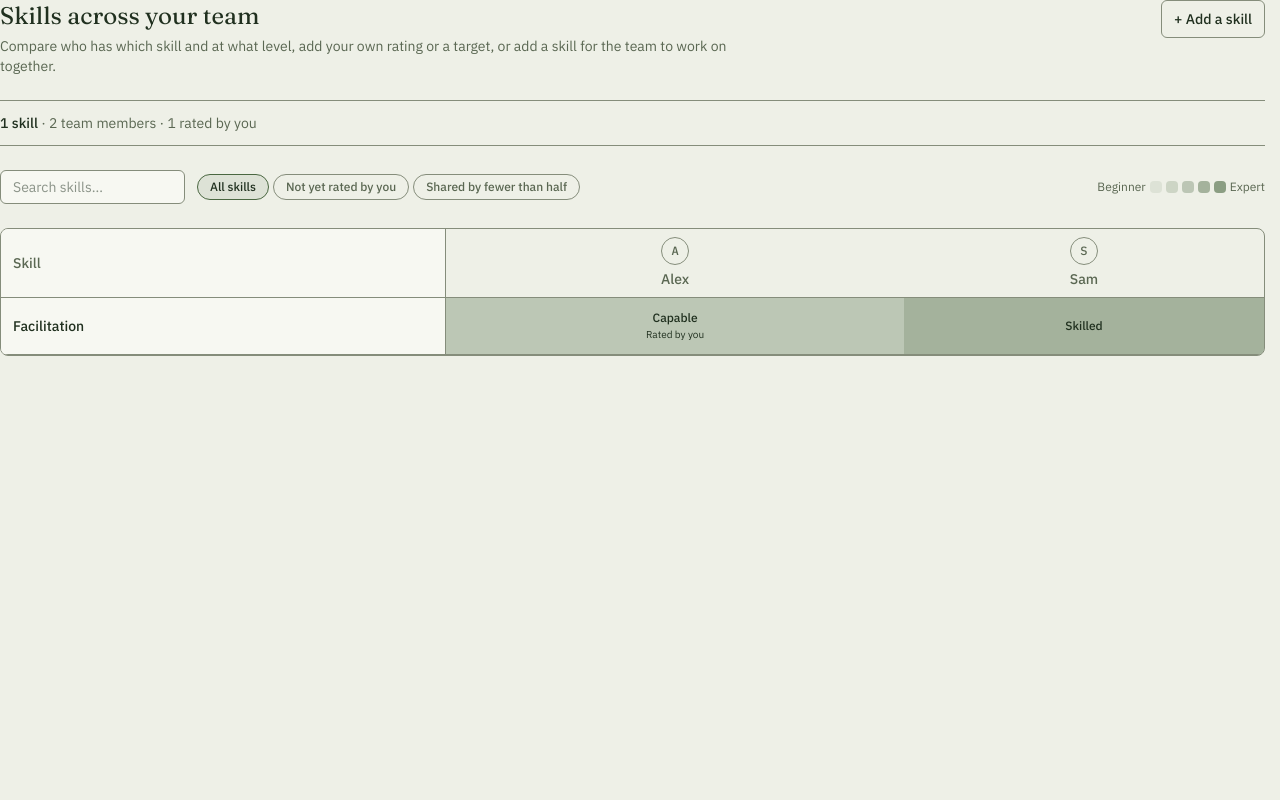
ManagerSkillsPanel › lets a leader add a skill for the team with nobody selected, tracking it before anyone has it
The width and height of the screenshot is (1280, 800).
Click the button "+ Add a skill" at (1213, 19), box x1=1161 y1=0 x2=1265 y2=38
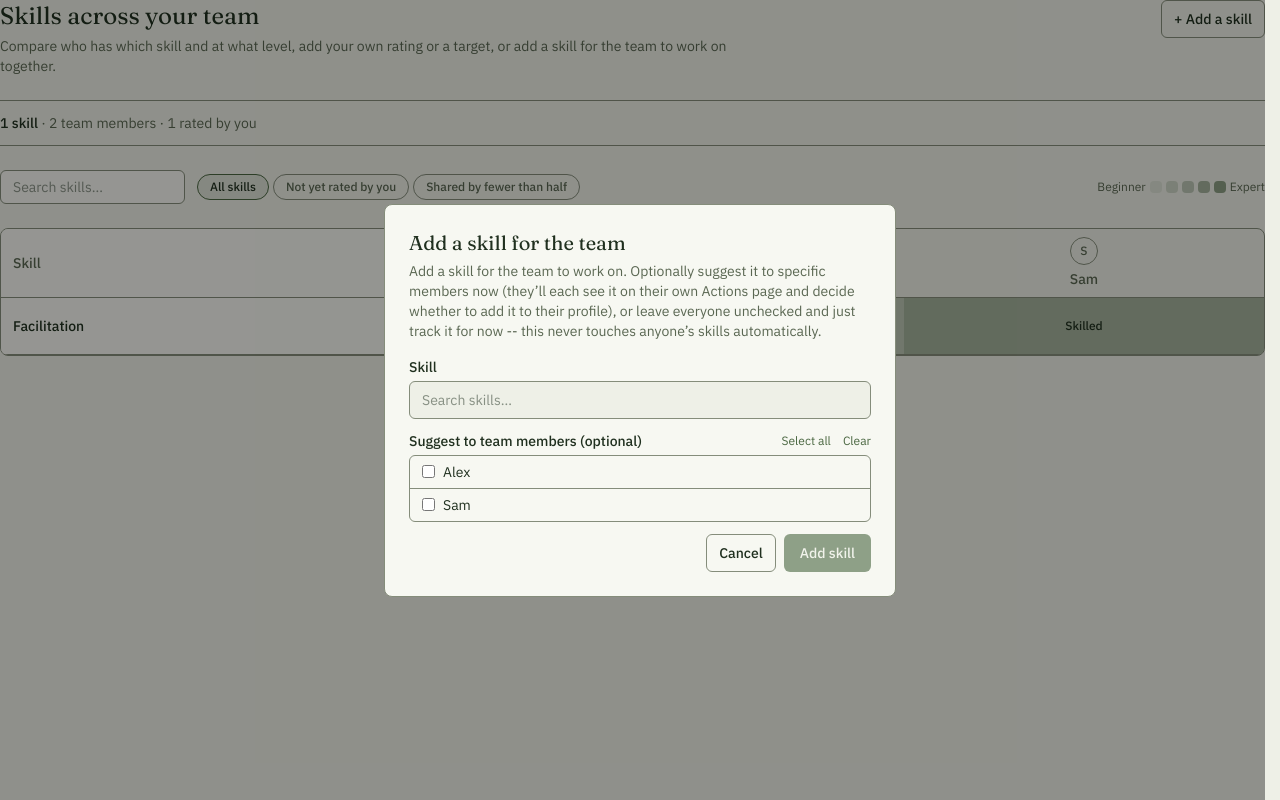
Type "Coach" into the field labelled "Skill" at (640, 400), box x1=409 y1=380 x2=871 y2=418
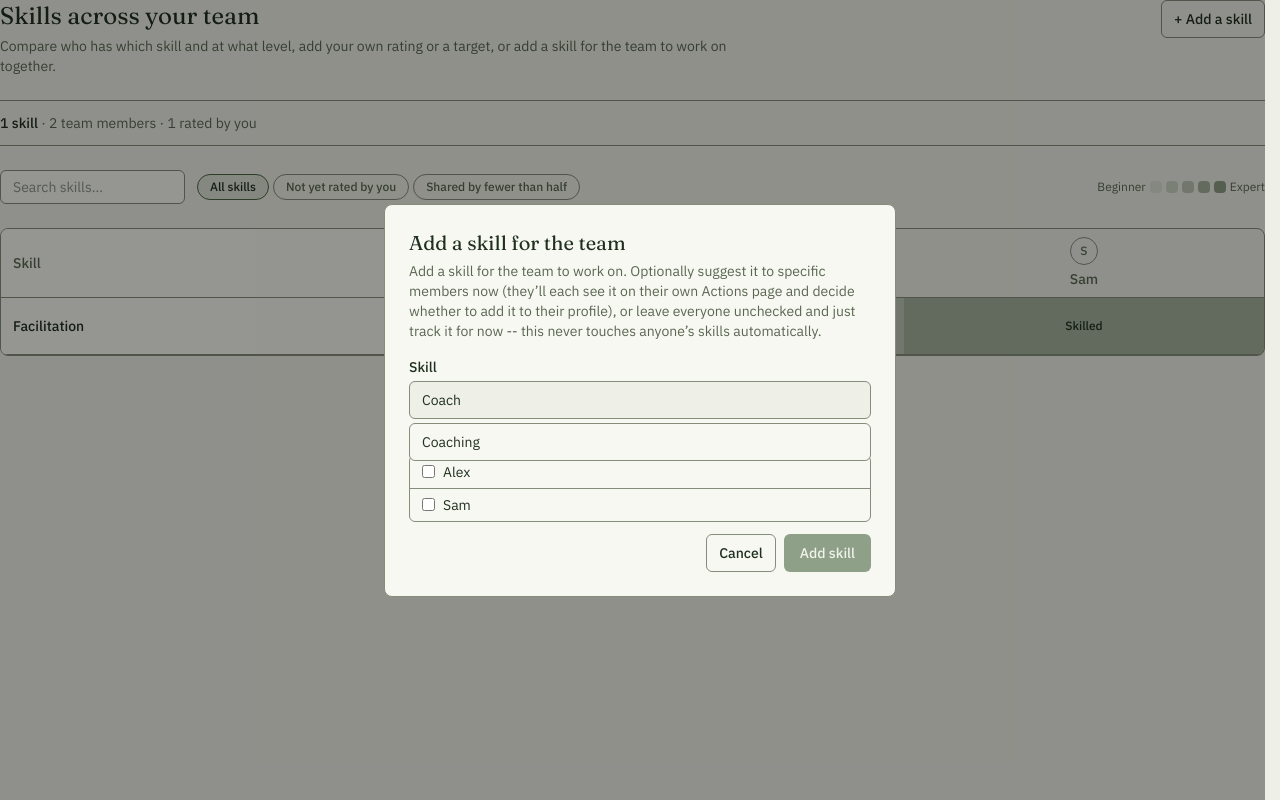
Click the button "Coaching" at (451, 442), box x1=410 y1=424 x2=870 y2=460
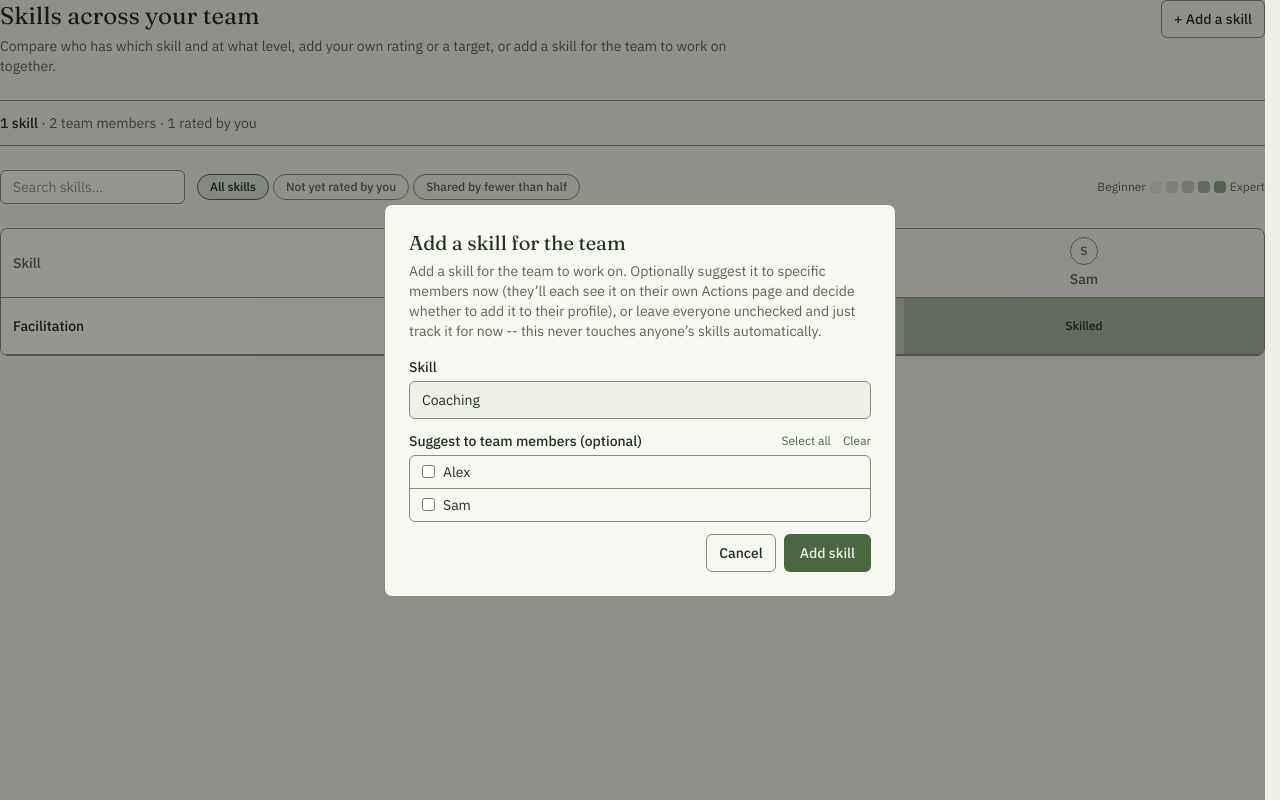
expect the button "Add skill" is enabled: met
Click the button "Add skill" at (827, 552), box x1=784 y1=534 x2=871 y2=572
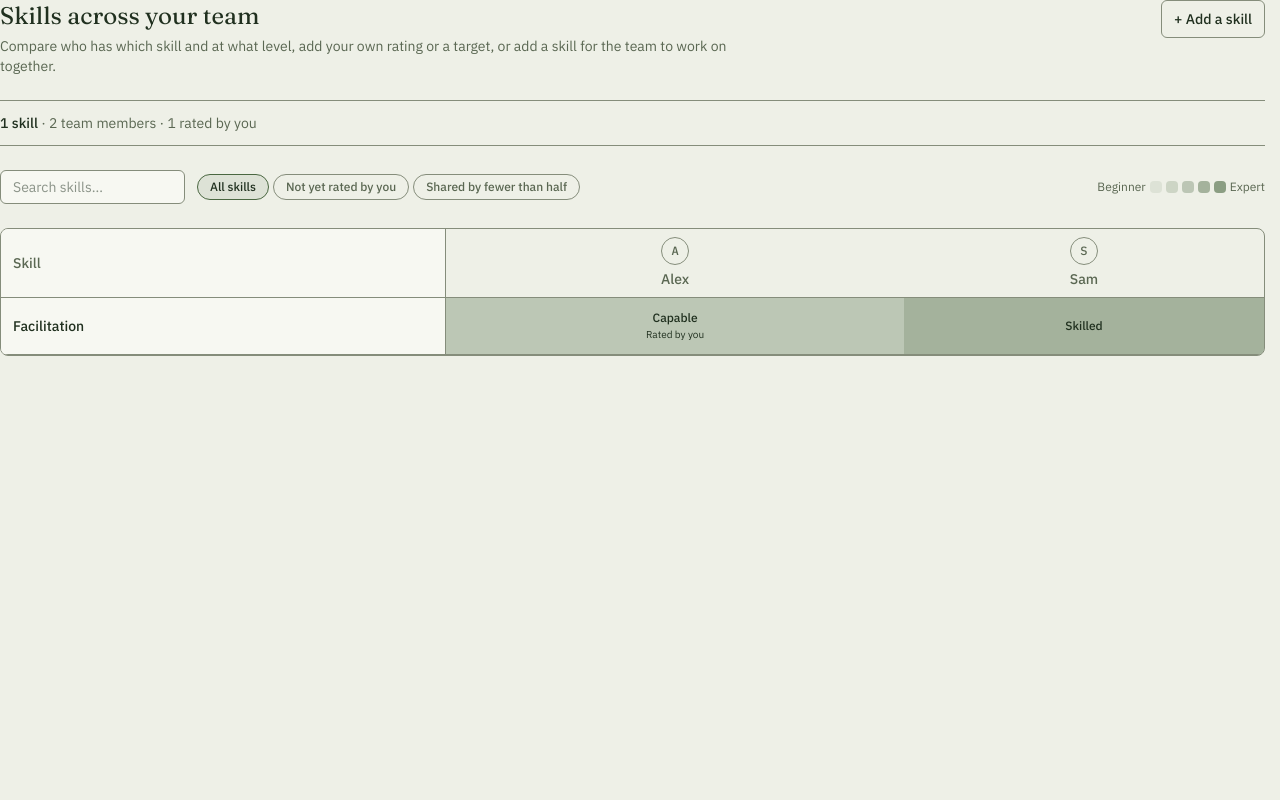
expect the dialog is gone: met
